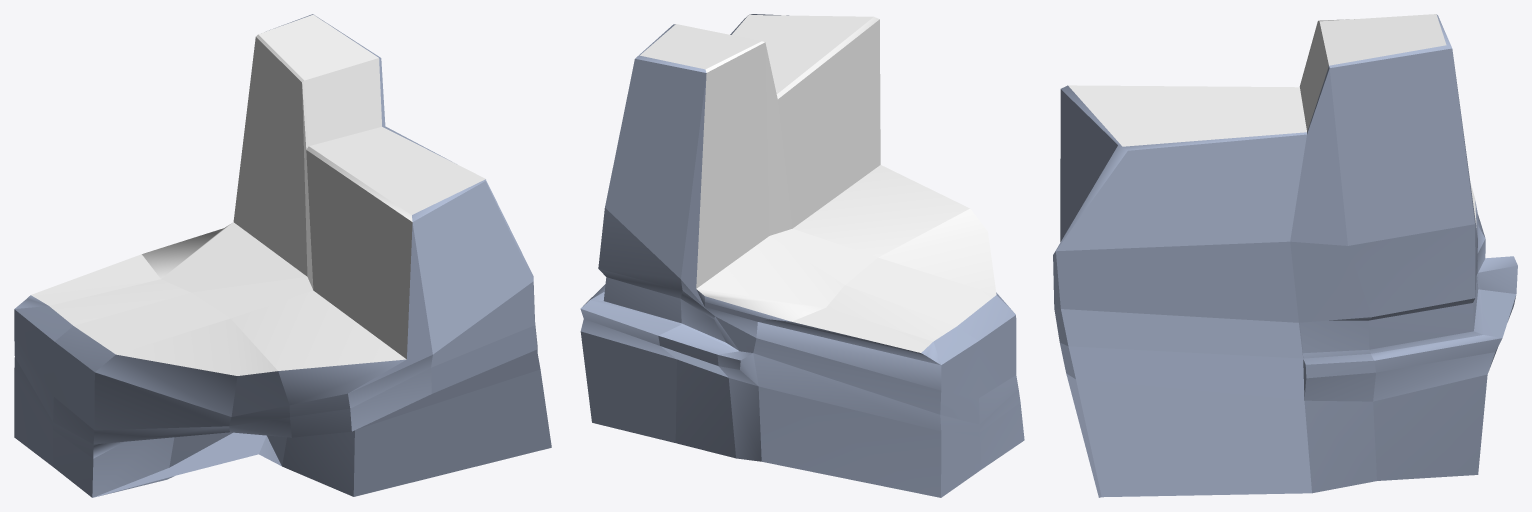
The model's file is MAIN ISLAND TERRAIN5.fbx.
3 renders of one model, left to right at view 1: azimuth 30°, elevation 25°; view 2: azimuth 150°, elevation 25°; view 3: azimuth 270°, elevation 25°, orthographic. The views are drawn at different scales.
Visible parts, largest first — view 1: MainIslandTerrain.004; view 2: MainIslandTerrain.004; view 3: MainIslandTerrain.004.
Part boxes in pixels (x1,y1,x2,y2): MainIslandTerrain.004: (14, 14, 551, 497); MainIslandTerrain.004: (580, 14, 1024, 497); MainIslandTerrain.004: (1053, 14, 1517, 497).
Bounding box in the file's own units: 10423 × 9432 × 9324.
